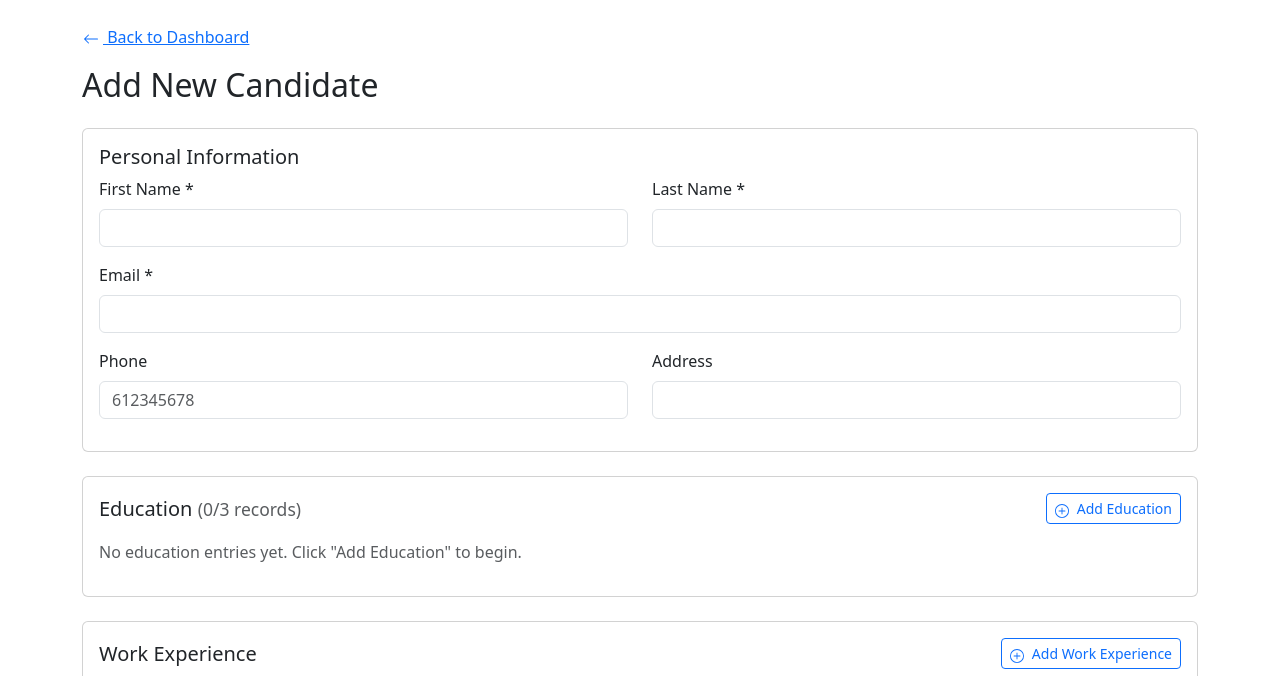
Add Candidate Feature › Add Candidate Form - Education Management › should add an education entry when Add Education is clicked
This screenshot has width=1280, height=676.
Click the button with test id "add-education-btn".
click(1114, 509)  # box x1=1046 y1=493 x2=1181 y2=524
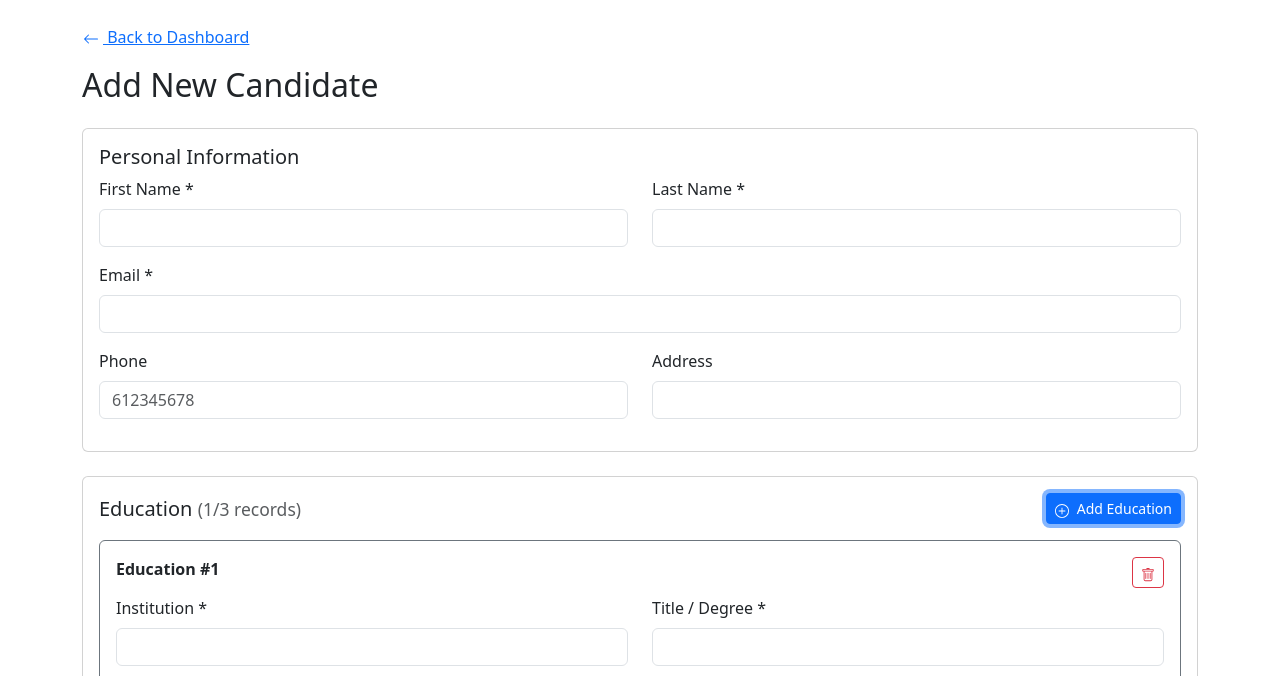
Now the field with test id "education-institution-0" is shown, box x1=116 y1=628 x2=628 y2=666
Now the field with test id "education-title-0" is shown, box x1=652 y1=628 x2=1164 y2=666
